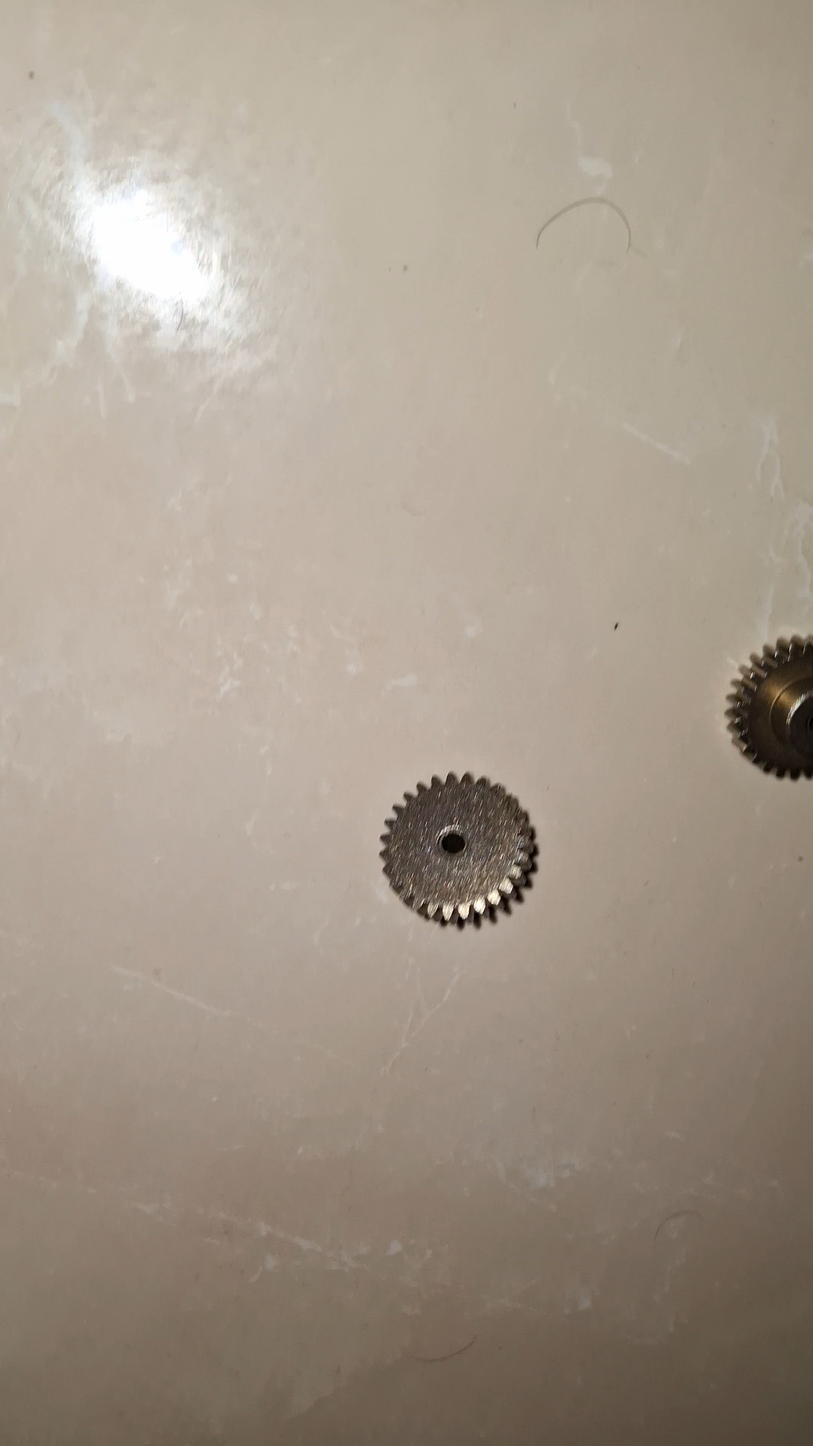spur gear: (381, 773, 533, 922), (728, 636, 813, 779)
